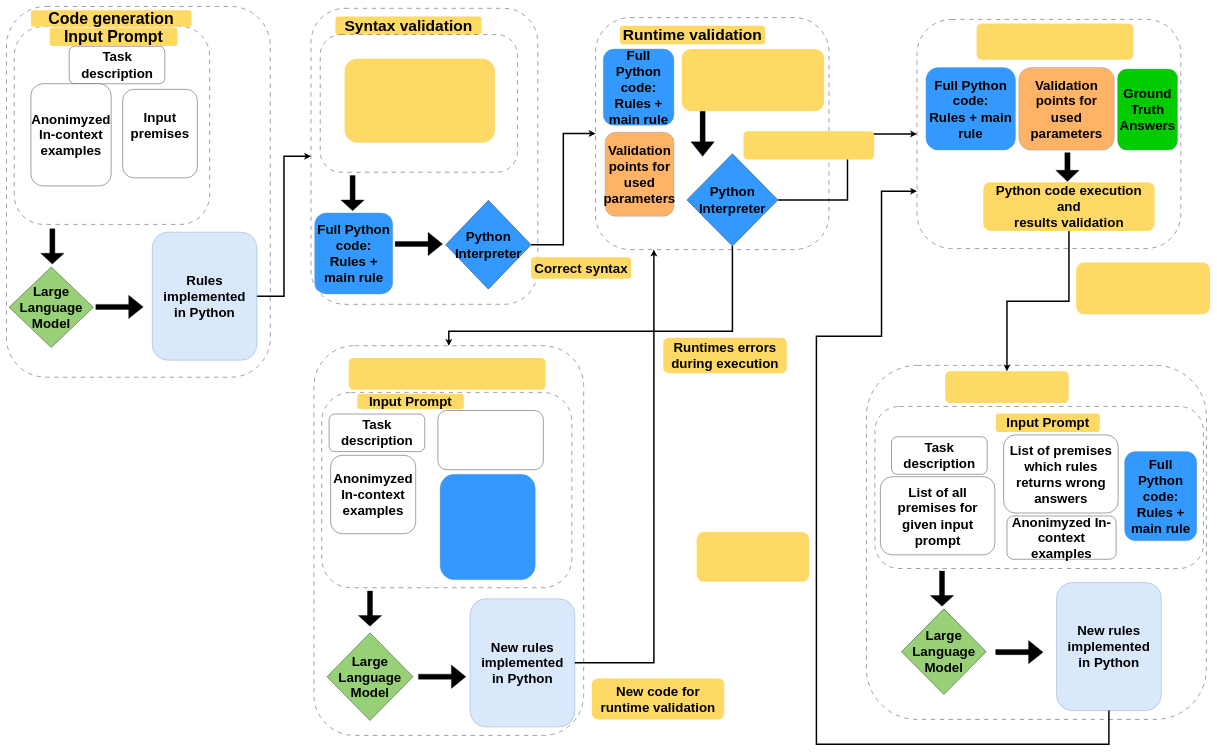
Some shapes in this 1217 by 754 pixel diagram are drawn without their labels. The centre of each missing label's shape, as x and y in pixels:
"Execution of Python code with validation data points" goes at point (753, 80).
"Execution without runtime errors" goes at point (808, 145).
"Full Python code: Rules + main rule + validation code" goes at point (487, 527).
"Main rule generation by Python function" goes at point (419, 101).
"New code for program logic validation" goes at point (753, 557).
"Program logic correction" goes at point (1007, 387).
"Program logic validation" goes at point (1054, 41).
"Program runtime errors correction" goes at point (447, 374).
"Runtime error description" goes at point (490, 440).
"Wrong answers for out-of-range values detection" goes at point (1143, 288).
